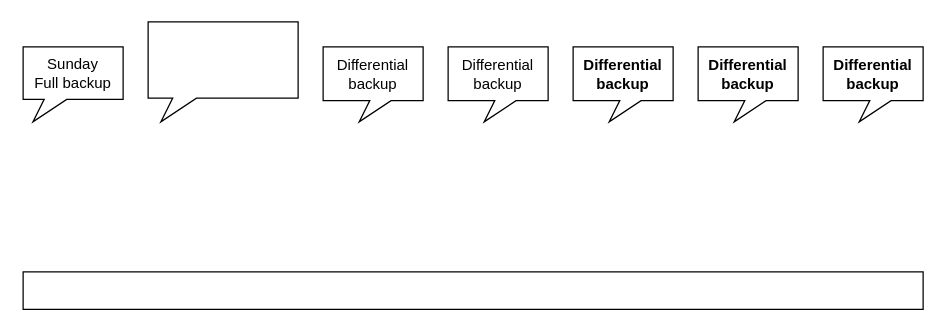
The diagram is 948 pixels wide and 331 high, and some of its shapes have lost their labels. Here are the shapes that lost their labels. From the top down, the centre of each, then its label:
At pixel 222 71: "Monday - Saturday Differential backup".
At pixel 472 290: "Transaction log backup".
